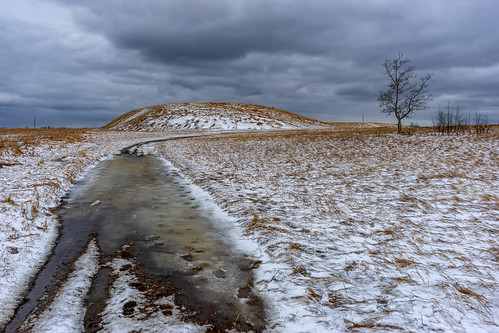mountain: (121, 82, 303, 126)
sky: (1, 1, 489, 118)
tree: (369, 56, 429, 139)
